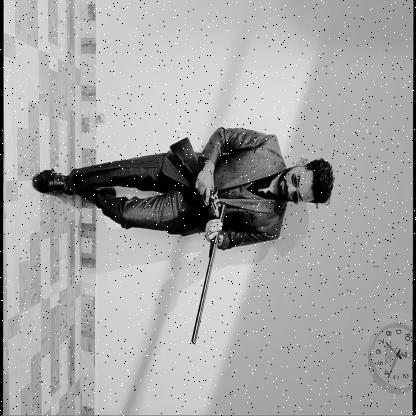rifle: (167, 136, 227, 346)
